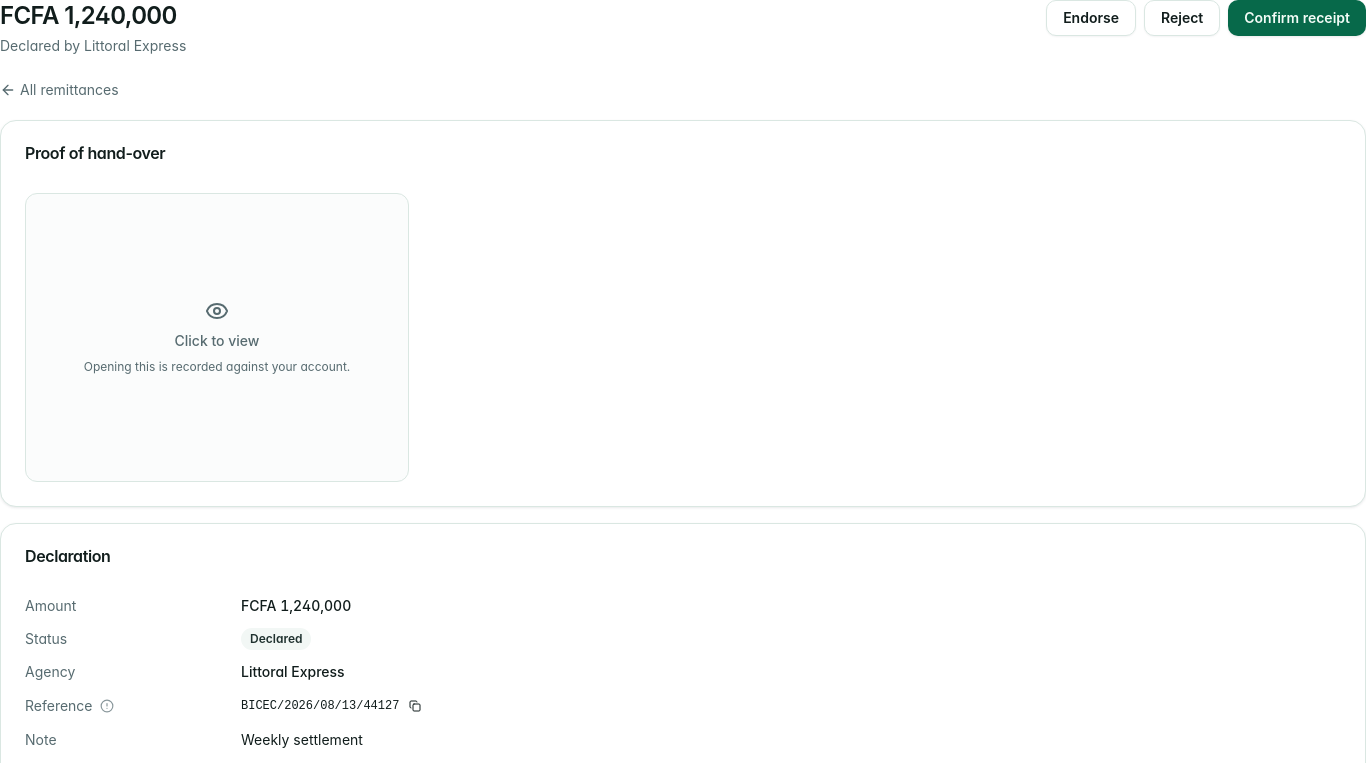
Test case: one remittance › reports a lost race inline, with a reload rather than a retry
Click the button "Confirm receipt". click: [1297, 18]
box: [1228,0,1365,36]
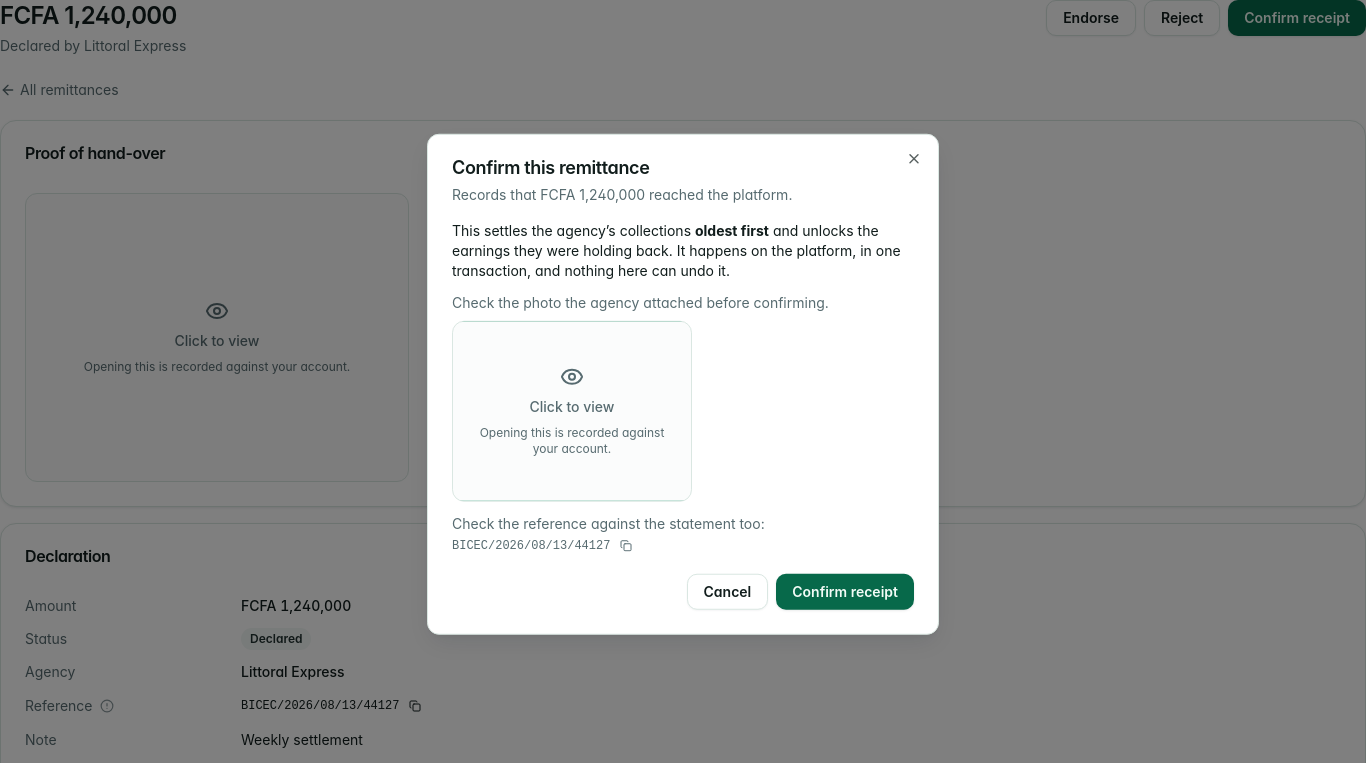
Click the button "Confirm receipt". click: [845, 591]
box: [776,573,914,609]
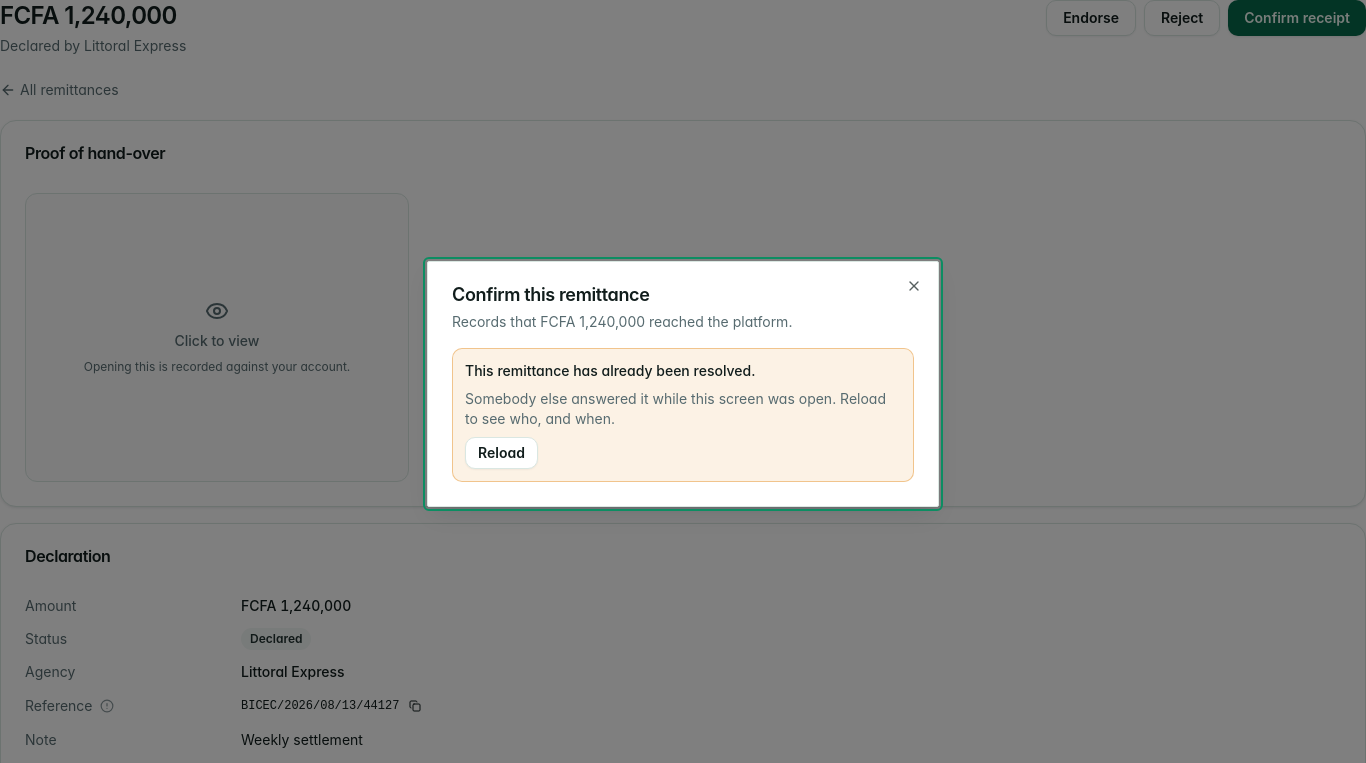
Now the text "This remittance has already been resolved." is shown, box [465,362,755,379]
Now the button "Reload" is shown, box [465,437,538,469]
